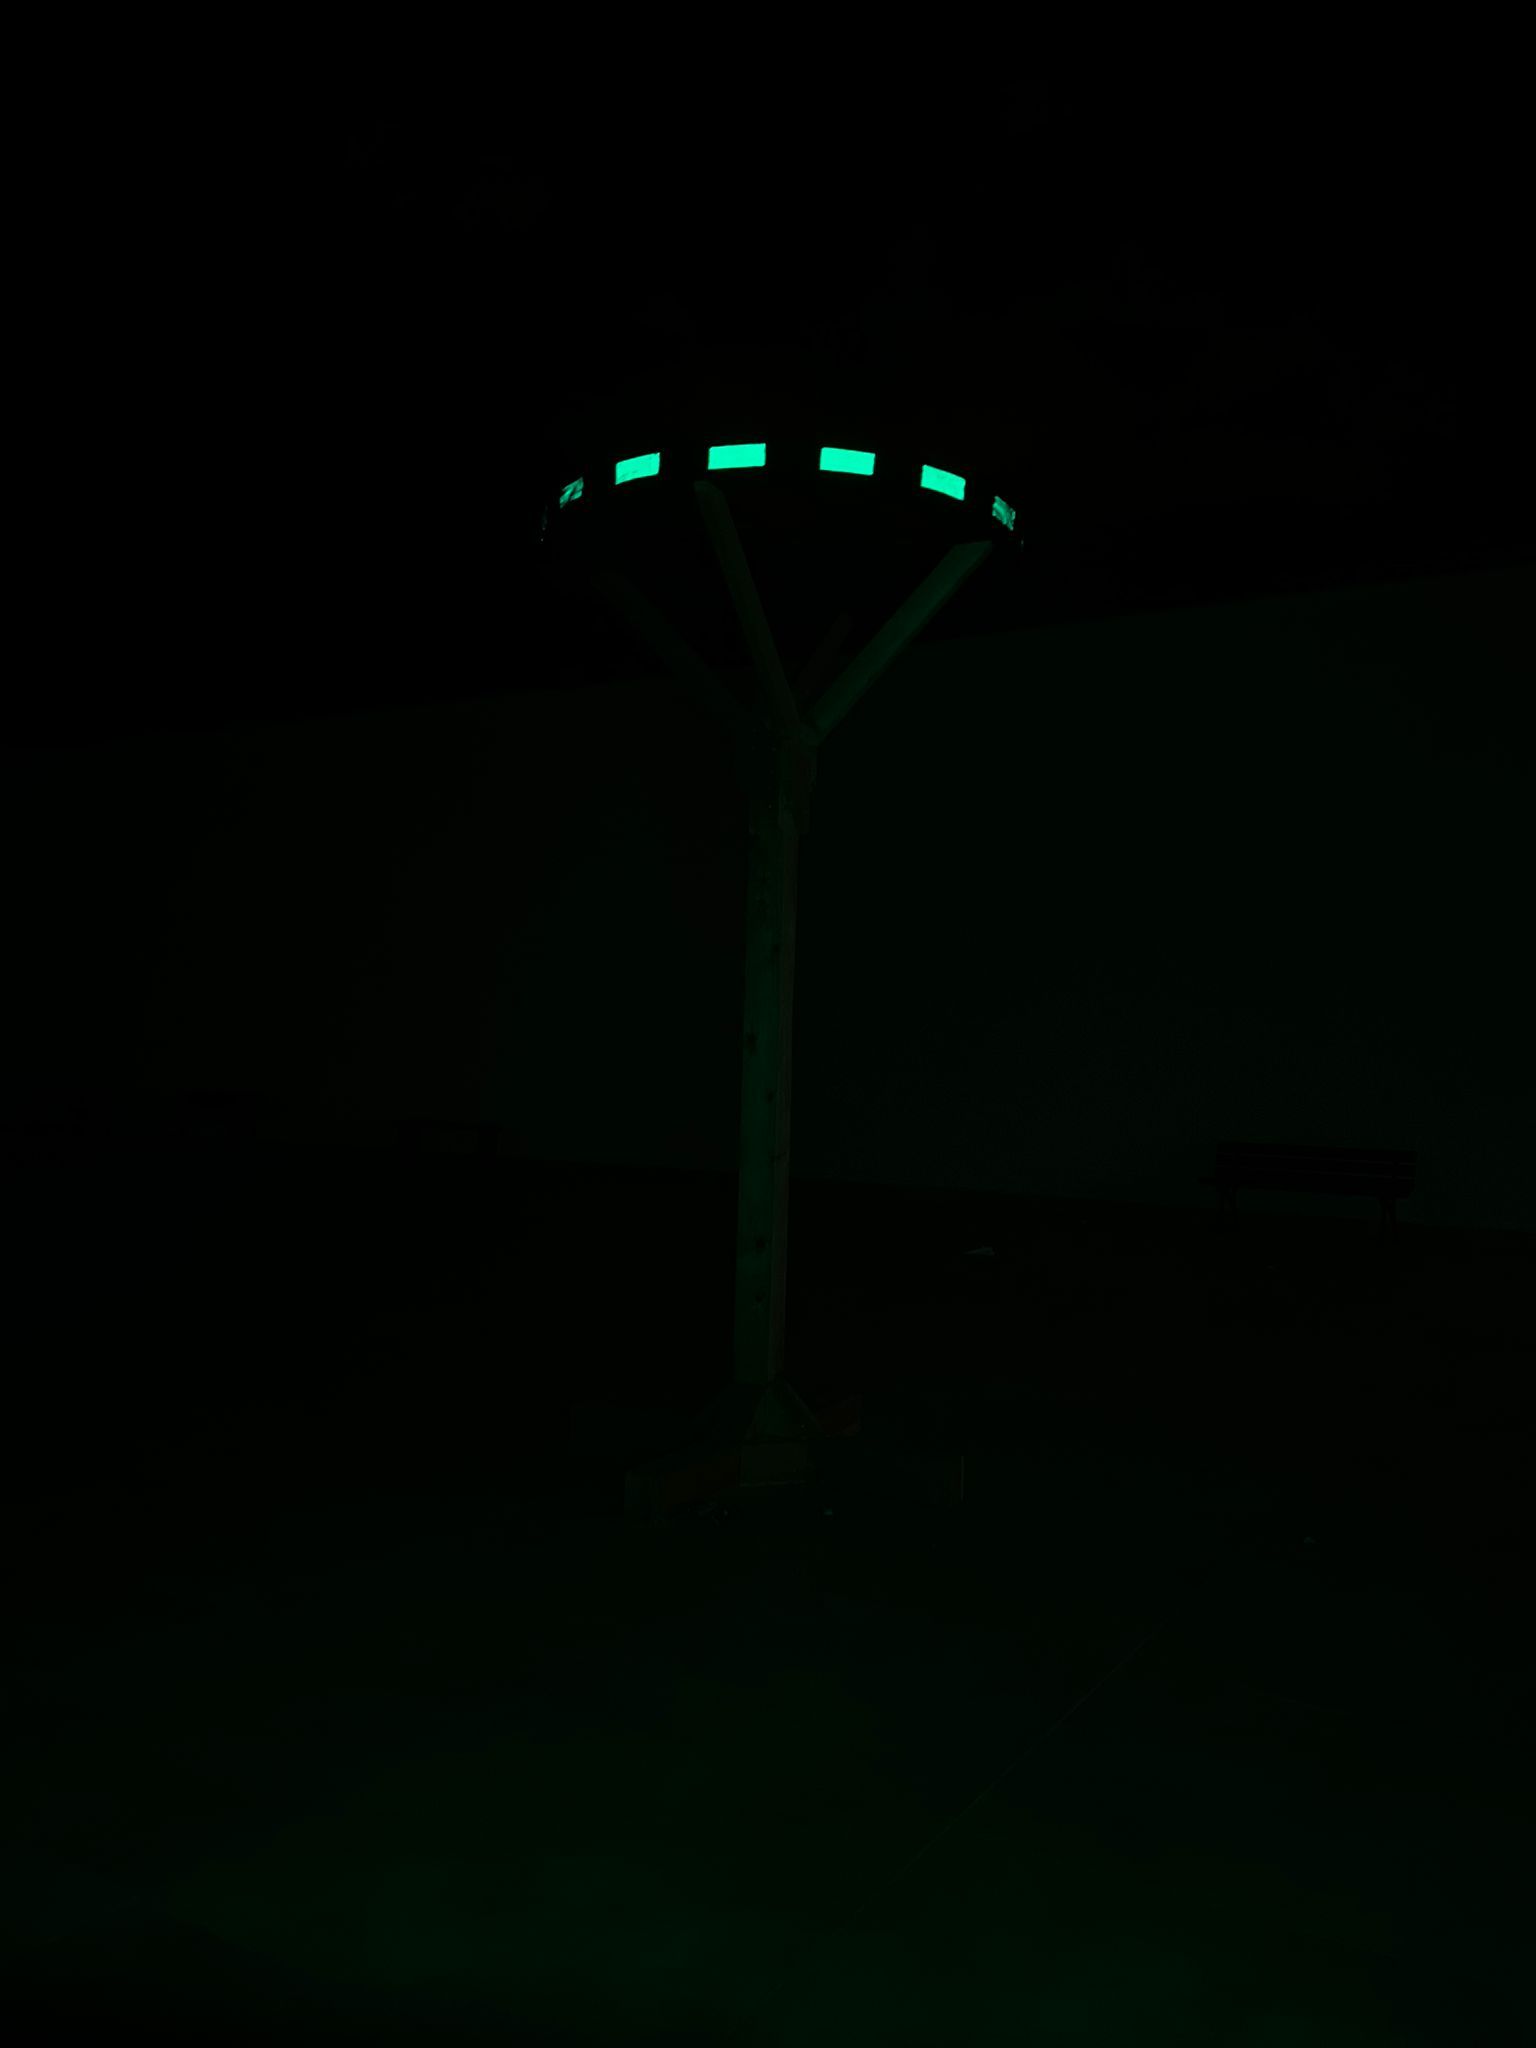hoop: (608, 435, 1020, 539)
